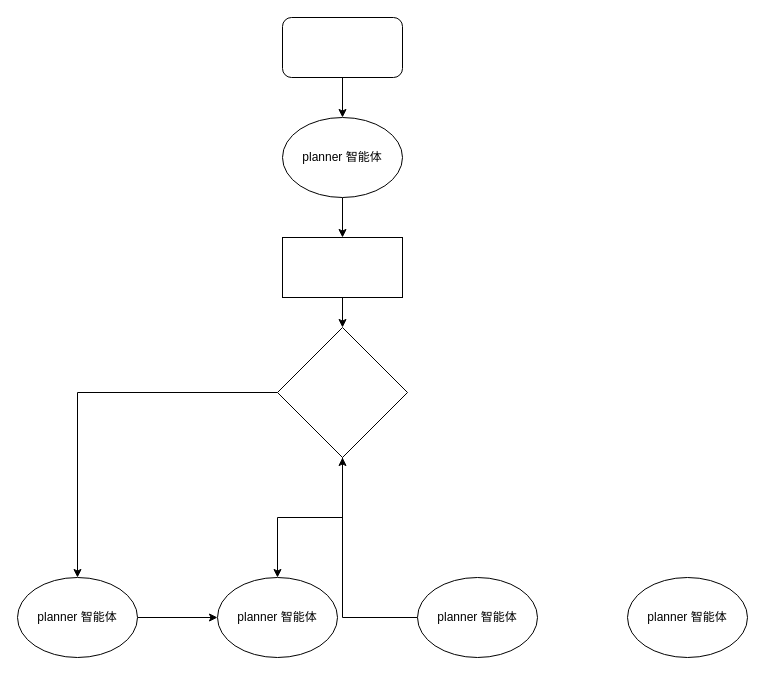
The diagram is 765 pixels wide and 675 high, and some of its shapes have lost their labels. The centre of each missing label's shape, as x and y in pixels:
worker智能体群: the point at 342,392
任务链分解: the point at 342,267
用户查询请求: the point at 342,47
